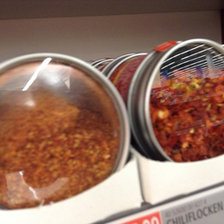spices: (1, 52, 129, 211), (130, 39, 224, 163)
